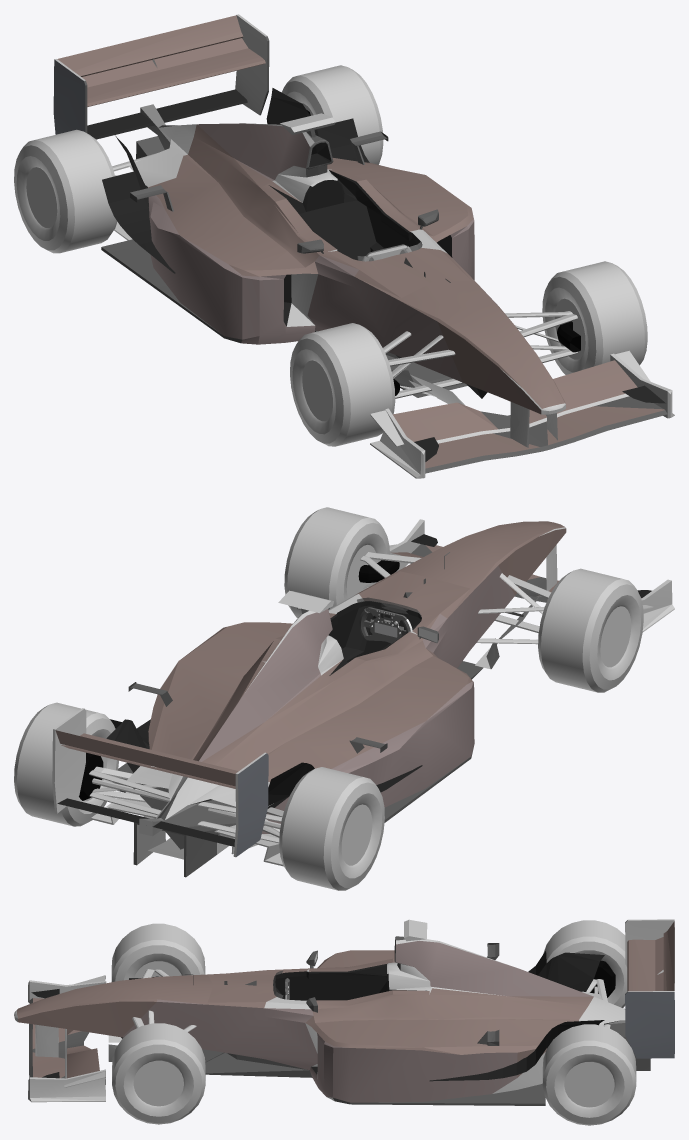
The model's file is f1 web.obj.
3 renders of one model, top to bottom at view 1: azimuth 30°, elevation 25°; view 2: azimuth 150°, elevation 25°; view 3: azimuth 270°, elevation 25°, orthographic. The views are drawn at different scales.
Parts seen in each view (by area): view 1: Mesh80 f1_mclarenmercedes1 skeD1 Component1 Model, Mesh1 f1_t3_1 f1_mclarenmercedes1 skeD1 Component1 Model, Mesh3 f1_t3_2 f1_mclarenmercedes1 skeD1 Component1 Model, Mesh7 f1_t3_4 f1_mclarenmercedes1 skeD1 Component1 Model, Mesh104 f1_mclarenmercedes1 skeD1 Component1 Model, Mesh110 f1_mclarenmercedes1 skeD1 Component1 Model, Mesh106 f1_mclarenmercedes1 skeD1 Component1 Model, Mesh5 f1_t3_3 f1_mclarenmercedes1 skeD1 Component1 Model, Mesh107 f1_mclarenmercedes1 skeD1 Component1 Model, Mesh65 f1_mclarenmercedes1 skeD1 Component1 Model, Mesh19 f1_mclarenmercedes1 skeD1 Component1 Model, Mesh103 f1_mclarenmercedes1 skeD1 Component1 Model (+12 smaller); view 2: Mesh80 f1_mclarenmercedes1 skeD1 Component1 Model, Mesh1 f1_t3_1 f1_mclarenmercedes1 skeD1 Component1 Model, Mesh3 f1_t3_2 f1_mclarenmercedes1 skeD1 Component1 Model, Mesh7 f1_t3_4 f1_mclarenmercedes1 skeD1 Component1 Model, Mesh5 f1_t3_3 f1_mclarenmercedes1 skeD1 Component1 Model, Mesh105 f1_mclarenmercedes1 skeD1 Component1 Model, Mesh102 f1_mclarenmercedes1 skeD1 Component1 Model, Mesh107 f1_mclarenmercedes1 skeD1 Component1 Model, Mesh72 f1_mclarenmercedes1 skeD1 Component1 Model, Mesh103 f1_mclarenmercedes1 skeD1 Component1 Model, Mesh96 f1_mclarenmercedes1 skeD1 Component1 Model, Mesh106 f1_mclarenmercedes1 skeD1 Component1 Model (+16 smaller); view 3: Mesh80 f1_mclarenmercedes1 skeD1 Component1 Model, Mesh5 f1_t3_3 f1_mclarenmercedes1 skeD1 Component1 Model, Mesh7 f1_t3_4 f1_mclarenmercedes1 skeD1 Component1 Model, Mesh1 f1_t3_1 f1_mclarenmercedes1 skeD1 Component1 Model, Mesh102 f1_mclarenmercedes1 skeD1 Component1 Model, Mesh3 f1_t3_2 f1_mclarenmercedes1 skeD1 Component1 Model, Mesh49 f1_mclarenmercedes1 skeD1 Component1 Model, Mesh106 f1_mclarenmercedes1 skeD1 Component1 Model, Mesh114 f1_mclarenmercedes1 skeD1 Component1 Model, Mesh93 f1_mclarenmercedes1 skeD1 Component1 Model, Mesh104 f1_mclarenmercedes1 skeD1 Component1 Model, Mesh110 f1_mclarenmercedes1 skeD1 Component1 Model (+8 smaller).
Part boxes in pixels (x1,y1,x2,y2): Mesh80 f1_mclarenmercedes1 skeD1 Component1 Model: (101, 123, 565, 414); Mesh1 f1_t3_1 f1_mclarenmercedes1 skeD1 Component1 Model: (290, 323, 395, 446); Mesh3 f1_t3_2 f1_mclarenmercedes1 skeD1 Component1 Model: (14, 129, 117, 253); Mesh7 f1_t3_4 f1_mclarenmercedes1 skeD1 Component1 Model: (542, 261, 647, 374); Mesh104 f1_mclarenmercedes1 skeD1 Component1 Model: (392, 360, 637, 443); Mesh110 f1_mclarenmercedes1 skeD1 Component1 Model: (425, 396, 667, 473); Mesh106 f1_mclarenmercedes1 skeD1 Component1 Model: (81, 38, 265, 106); Mesh5 f1_t3_3 f1_mclarenmercedes1 skeD1 Component1 Model: (281, 65, 383, 164); Mesh107 f1_mclarenmercedes1 skeD1 Component1 Model: (57, 15, 243, 76); Mesh65 f1_mclarenmercedes1 skeD1 Component1 Model: (300, 200, 376, 260); Mesh19 f1_mclarenmercedes1 skeD1 Component1 Model: (102, 171, 175, 273); Mesh103 f1_mclarenmercedes1 skeD1 Component1 Model: (87, 89, 247, 139); Mesh80 f1_mclarenmercedes1 skeD1 Component1 Model: (115, 521, 566, 859); Mesh1 f1_t3_1 f1_mclarenmercedes1 skeD1 Component1 Model: (538, 568, 643, 692); Mesh3 f1_t3_2 f1_mclarenmercedes1 skeD1 Component1 Model: (279, 767, 384, 890); Mesh7 f1_t3_4 f1_mclarenmercedes1 skeD1 Component1 Model: (284, 507, 389, 617); Mesh5 f1_t3_3 f1_mclarenmercedes1 skeD1 Component1 Model: (14, 702, 118, 826); Mesh105 f1_mclarenmercedes1 skeD1 Component1 Model: (233, 752, 268, 857); Mesh102 f1_mclarenmercedes1 skeD1 Component1 Model: (52, 708, 86, 813); Mesh107 f1_mclarenmercedes1 skeD1 Component1 Model: (55, 730, 235, 786); Mesh72 f1_mclarenmercedes1 skeD1 Component1 Model: (133, 818, 235, 877); Mesh103 f1_mclarenmercedes1 skeD1 Component1 Model: (57, 798, 234, 846); Mesh96 f1_mclarenmercedes1 skeD1 Component1 Model: (328, 605, 374, 662); Mesh106 f1_mclarenmercedes1 skeD1 Component1 Model: (61, 733, 238, 788); Mesh80 f1_mclarenmercedes1 skeD1 Component1 Model: (14, 936, 625, 1105); Mesh5 f1_t3_3 f1_mclarenmercedes1 skeD1 Component1 Model: (542, 1024, 636, 1125); Mesh7 f1_t3_4 f1_mclarenmercedes1 skeD1 Component1 Model: (112, 1023, 205, 1124); Mesh1 f1_t3_1 f1_mclarenmercedes1 skeD1 Component1 Model: (111, 923, 205, 981); Mesh102 f1_mclarenmercedes1 skeD1 Component1 Model: (625, 991, 674, 1058); Mesh3 f1_t3_2 f1_mclarenmercedes1 skeD1 Component1 Model: (543, 920, 627, 1007); Mesh49 f1_mclarenmercedes1 skeD1 Component1 Model: (273, 975, 386, 1000); Mesh106 f1_mclarenmercedes1 skeD1 Component1 Model: (627, 937, 663, 991); Mesh114 f1_mclarenmercedes1 skeD1 Component1 Model: (28, 1069, 105, 1102); Mesh93 f1_mclarenmercedes1 skeD1 Component1 Model: (538, 952, 604, 991); Mesh104 f1_mclarenmercedes1 skeD1 Component1 Model: (65, 1028, 99, 1078); Mesh110 f1_mclarenmercedes1 skeD1 Component1 Model: (29, 998, 64, 1078).
Size of the model in its own units: 3057 by 1560 by 6764.
